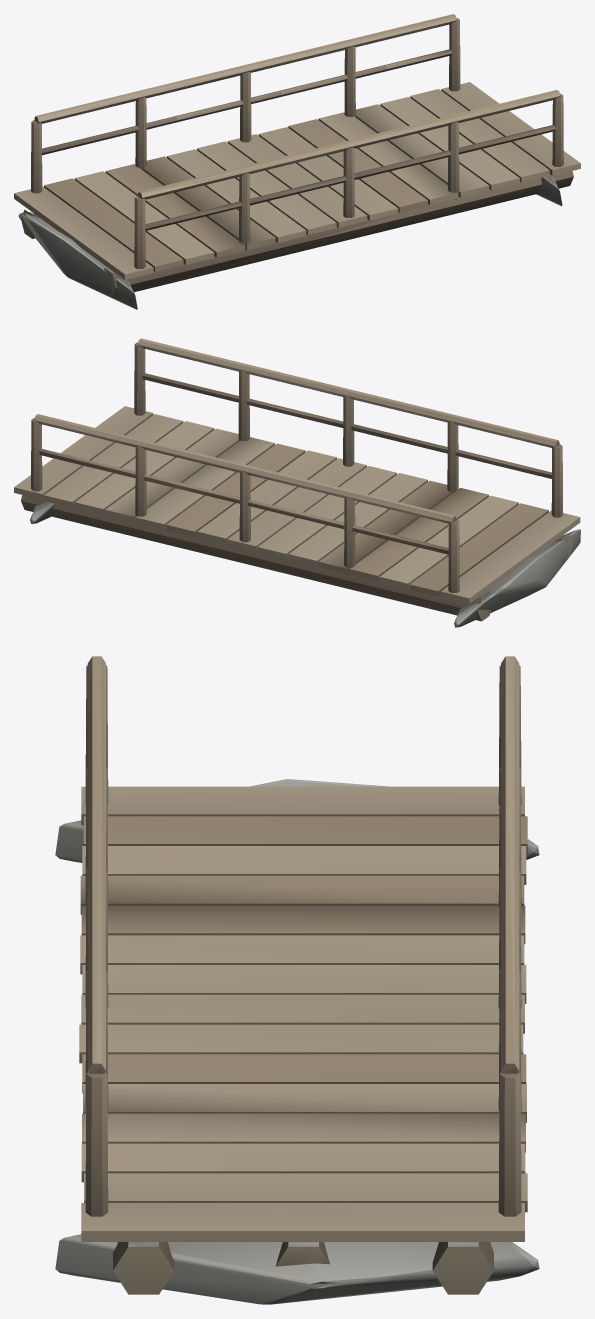
File: bridge.lod1.glb
The picture shows the model from 3 angles, top to bottom: view 1: azimuth 30°, elevation 25°; view 2: azimuth 150°, elevation 25°; view 3: azimuth 270°, elevation 25°; orthographic projection. The views are drawn at different scales.
Size of the model in its own units: 7.26 by 1.57 by 3.16.
